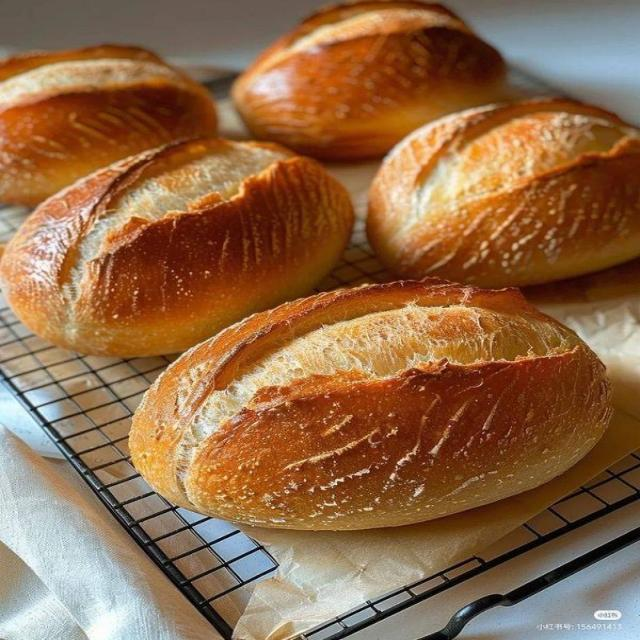bread: (130, 281, 611, 529), (0, 139, 353, 356), (367, 99, 639, 287), (233, 0, 505, 159), (0, 46, 216, 205)
